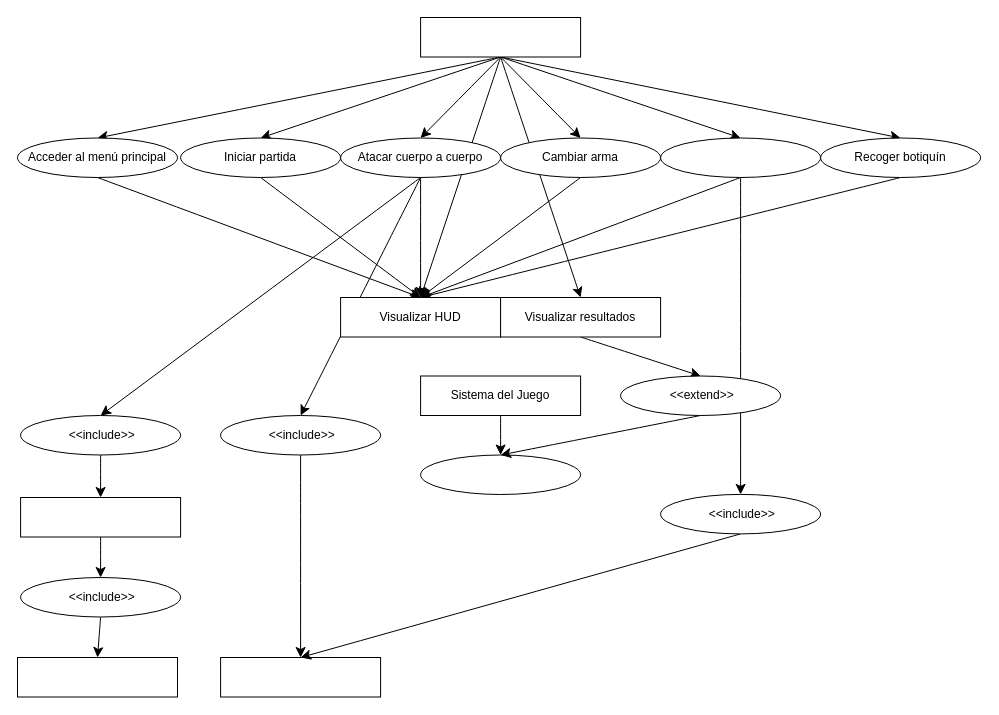
The diagram is 999 pixels wide and 715 high, and some of its shapes have lost their labels. Each missing label, with the centre of its shape:
"Administrar oleadas" belongs at point (500, 474).
"Aplicar daño" belongs at point (97, 676).
"Detectar colisión" belongs at point (100, 516).
"Esquivar" belongs at point (740, 157).
"Jugador" belongs at point (500, 36).
"Verificar estamina" belongs at point (300, 676).
